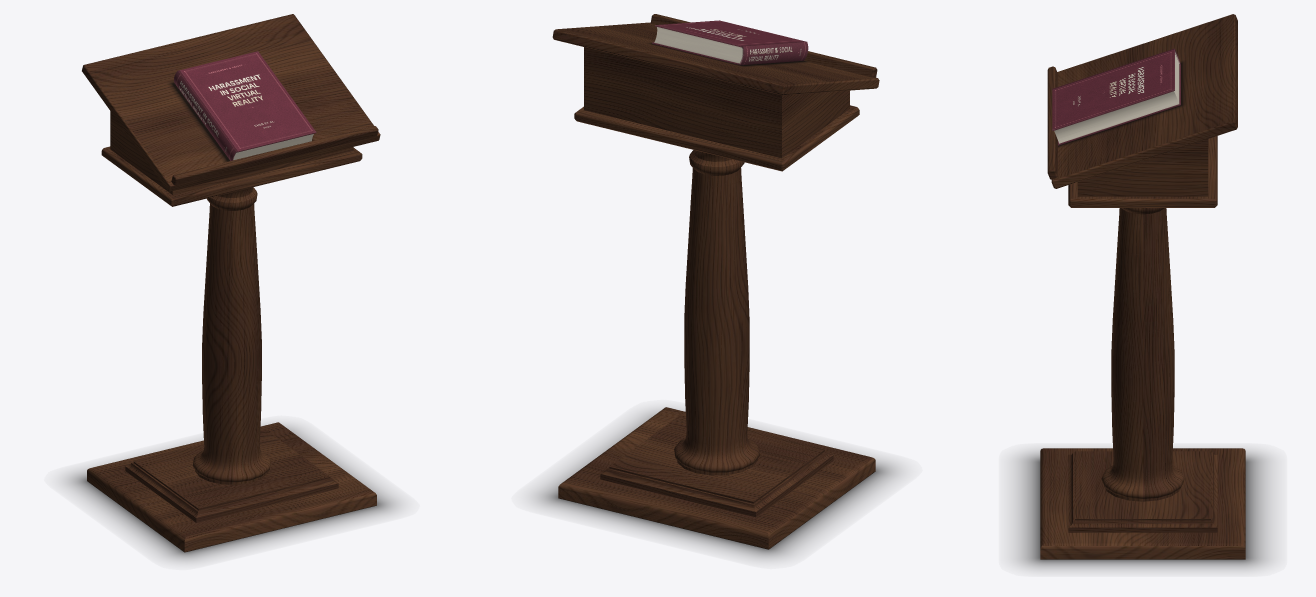
Rendered from chen-2026-on-lectern.glb.
3 views of the same model, side by side, from view 1: azimuth 30°, elevation 25°; view 2: azimuth 150°, elevation 25°; view 3: azimuth 270°, elevation 25° (orthographic). The views are drawn at different scales.
Parts seen in each view (by area): view 1: lectern, chen-2026, chen-2026-contact-shadow; view 2: lectern, chen-2026; view 3: lectern, chen-2026, chen-2026-contact-shadow.
Part boxes in pixels (box(x1,y1,x2,y2)): lectern: box(65, 14, 398, 561); chen-2026: box(174, 51, 316, 160); chen-2026-contact-shadow: box(169, 81, 313, 161); lectern: box(534, 14, 899, 558); chen-2026: box(652, 20, 808, 65); lectern: box(1016, 14, 1269, 569); chen-2026: box(1052, 48, 1180, 145); chen-2026-contact-shadow: box(1058, 61, 1184, 147).
Bounding box in the file's own units: 0.74 × 1.05 × 0.68.
Materials: 7 (7 with a texture image).
